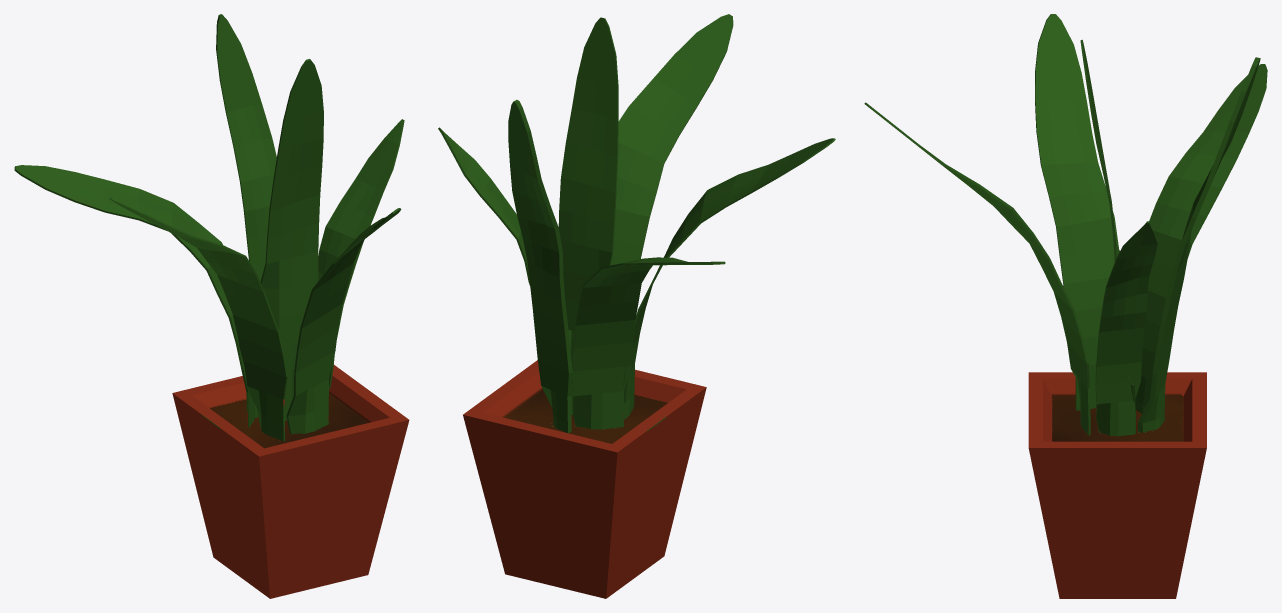
The model's file is tall_plant.fbx.
The picture shows the model from 3 angles, left to right: view 1: azimuth 30°, elevation 25°; view 2: azimuth 150°, elevation 25°; view 3: azimuth 270°, elevation 25°; orthographic projection. The views are drawn at different scales.
Visible parts, largest first — view 1: tall_plant_baked; view 2: tall_plant_baked; view 3: tall_plant_baked.
Boxes of the visible parts, left/top/right/bottom form: tall_plant_baked: left=14, top=14, right=409, bottom=598; tall_plant_baked: left=438, top=14, right=835, bottom=598; tall_plant_baked: left=864, top=14, right=1267, bottom=598.
Size of the model in its own units: 92.72 by 135 by 92.58.
1 material, 1 textured.
